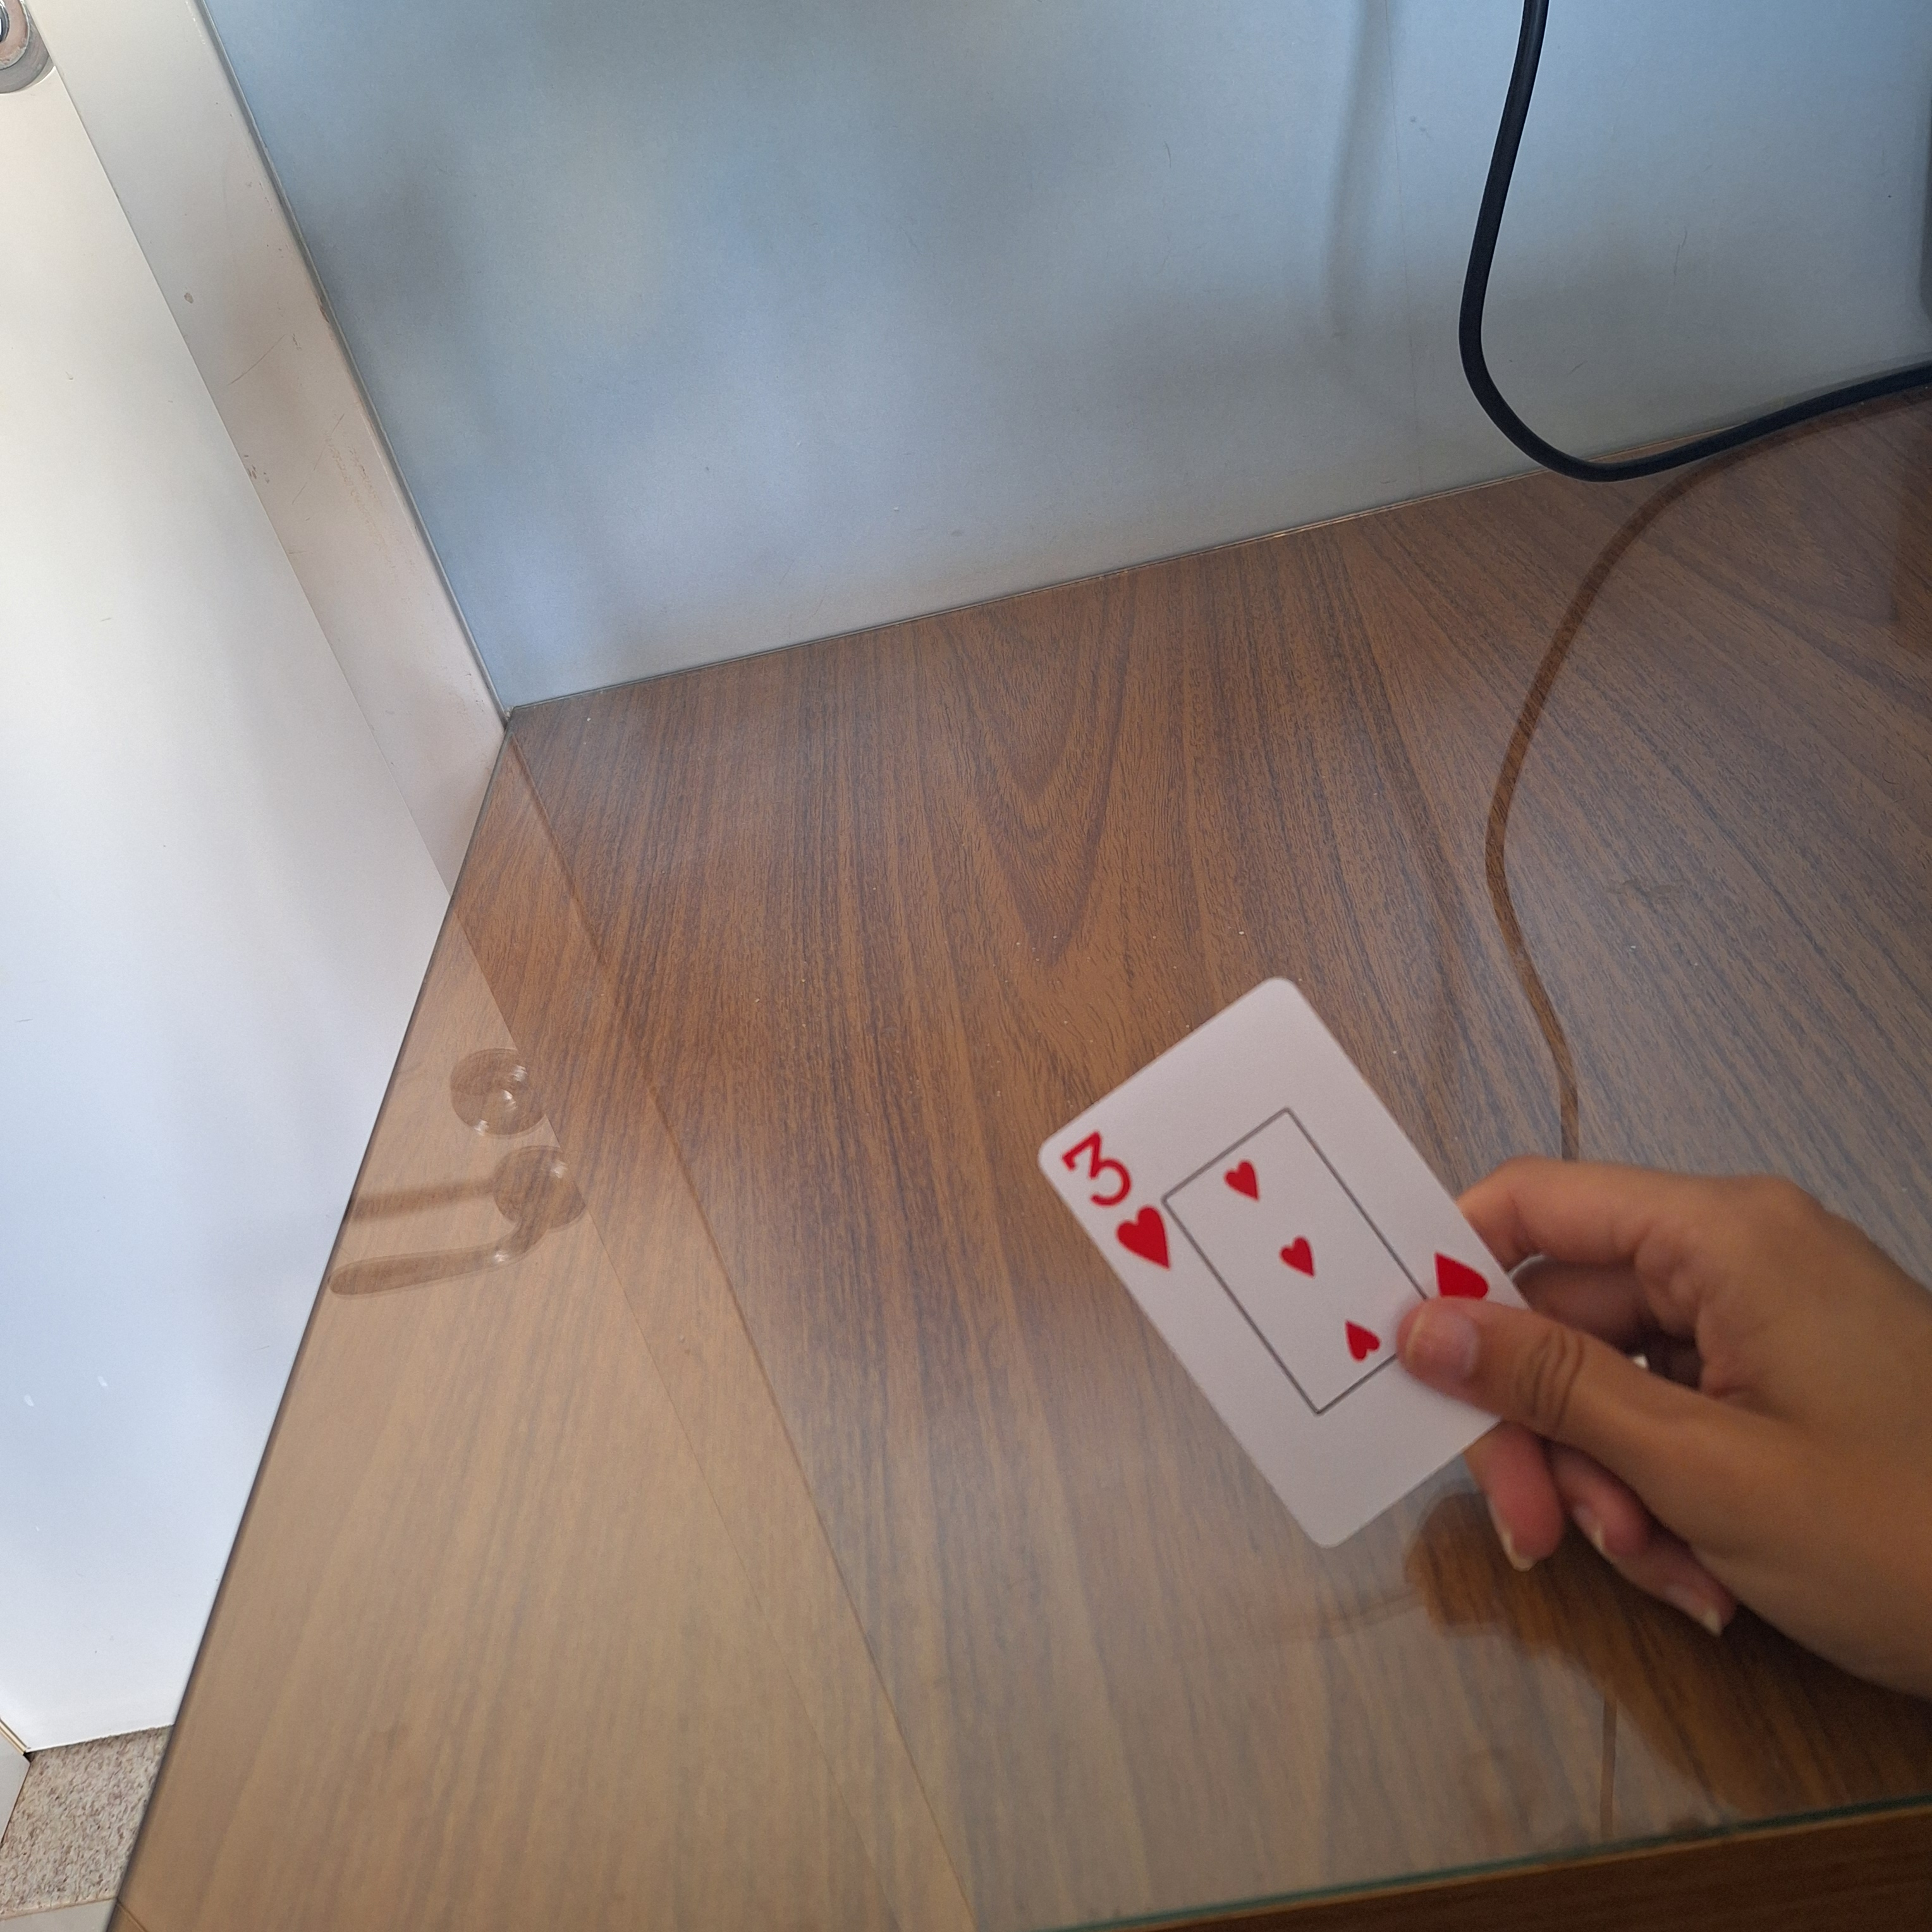3C: (1056, 1118, 1177, 1277)
